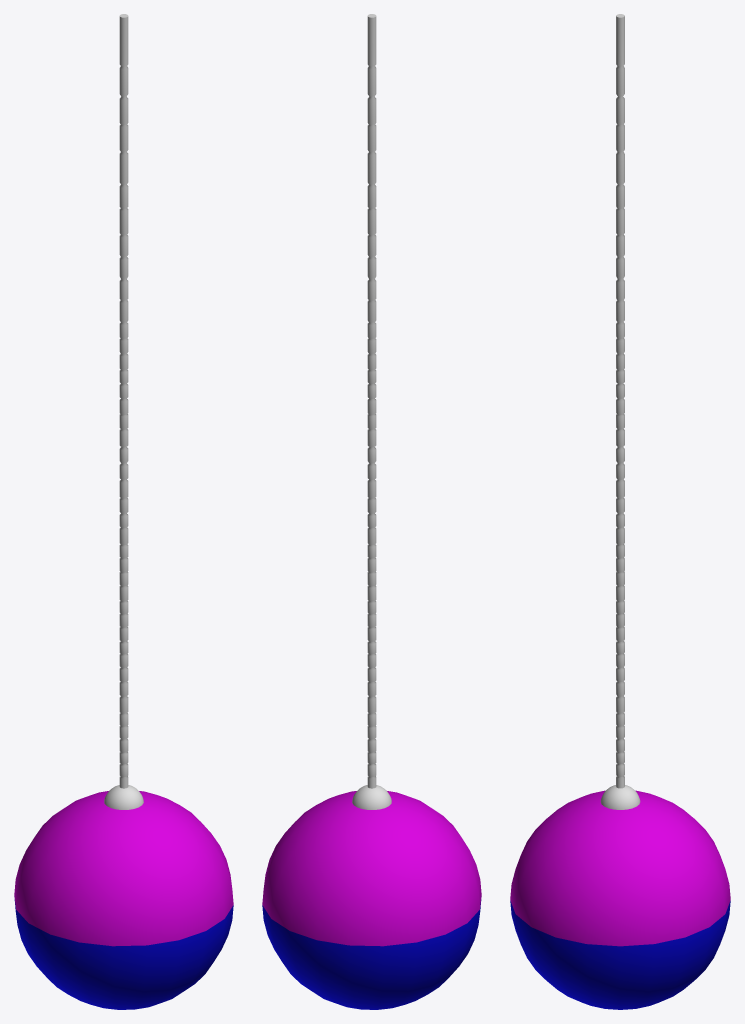
The model's file is bola_con_palo_id_mesh.fbx.
The picture shows the model from 3 angles, left to right: view 1: azimuth 30°, elevation 25°; view 2: azimuth 150°, elevation 25°; view 3: azimuth 270°, elevation 25°; orthographic projection.
Visible parts, largest first — view 1: bola, palo, agarre_de_bola_y_palo; view 2: bola, palo, agarre_de_bola_y_palo; view 3: bola, palo, agarre_de_bola_y_palo.
Part boxes in pixels (<box>): bola: <box>14,791,233,1009</box>; palo: <box>119,14,128,788</box>; agarre_de_bola_y_palo: <box>104,785,143,809</box>; bola: <box>262,791,481,1009</box>; palo: <box>367,14,376,788</box>; agarre_de_bola_y_palo: <box>352,785,391,809</box>; bola: <box>510,790,730,1009</box>; palo: <box>616,14,624,788</box>; agarre_de_bola_y_palo: <box>600,785,640,809</box>.
Size of the model in its own units: 1.59 by 7.81 by 1.59.
